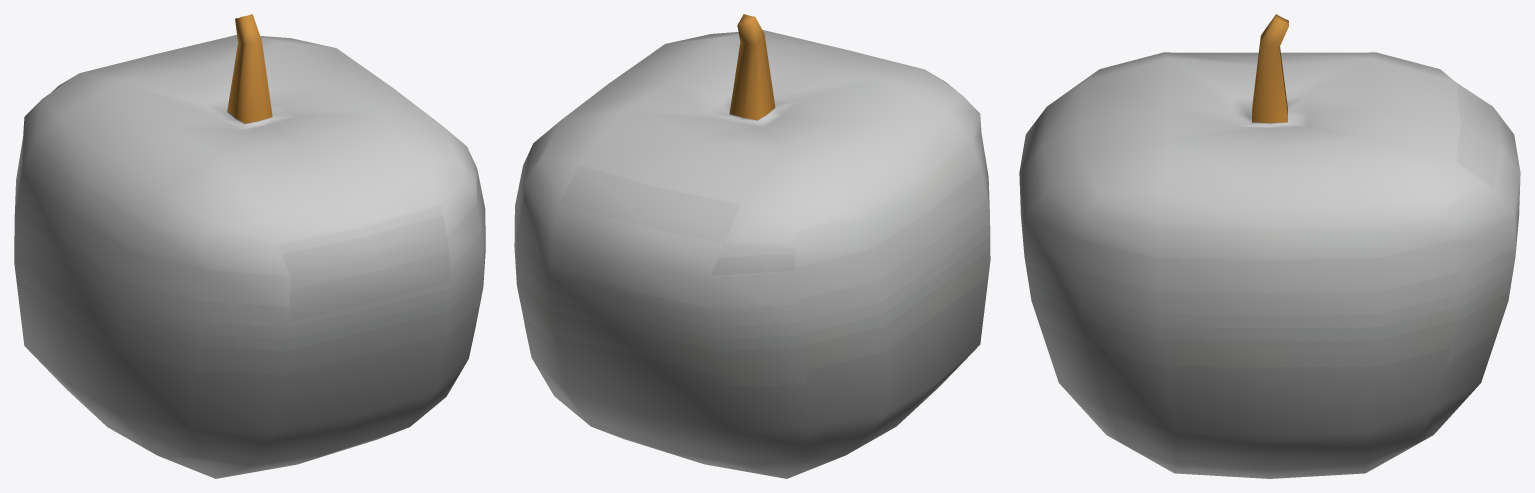
File: apple_prata.fbx
3 views of the same model, side by side, from view 1: azimuth 30°, elevation 25°; view 2: azimuth 150°, elevation 25°; view 3: azimuth 270°, elevation 25° (orthographic). The views are drawn at different scales.
Parts seen in each view (by area): view 1: Cube.001; view 2: Cube.001; view 3: Cube.001.
Boxes of the visible parts, x1=… form: Cube.001: x1=14, y1=14, x2=485, y2=478; Cube.001: x1=514, y1=14, x2=990, y2=478; Cube.001: x1=1019, y1=14, x2=1520, y2=478.
Size of the model in its own units: 167 by 178 by 192.
